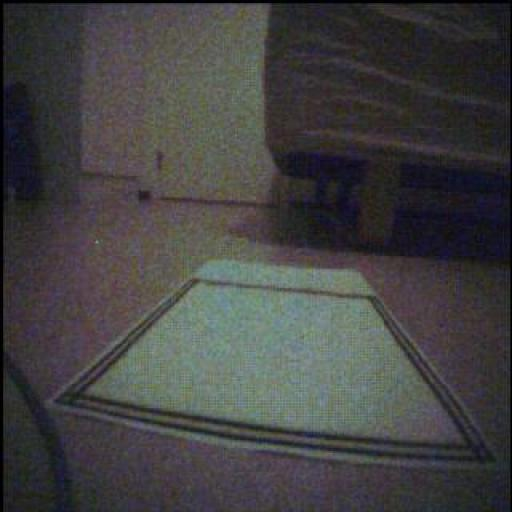pad: (51, 262, 496, 468)
